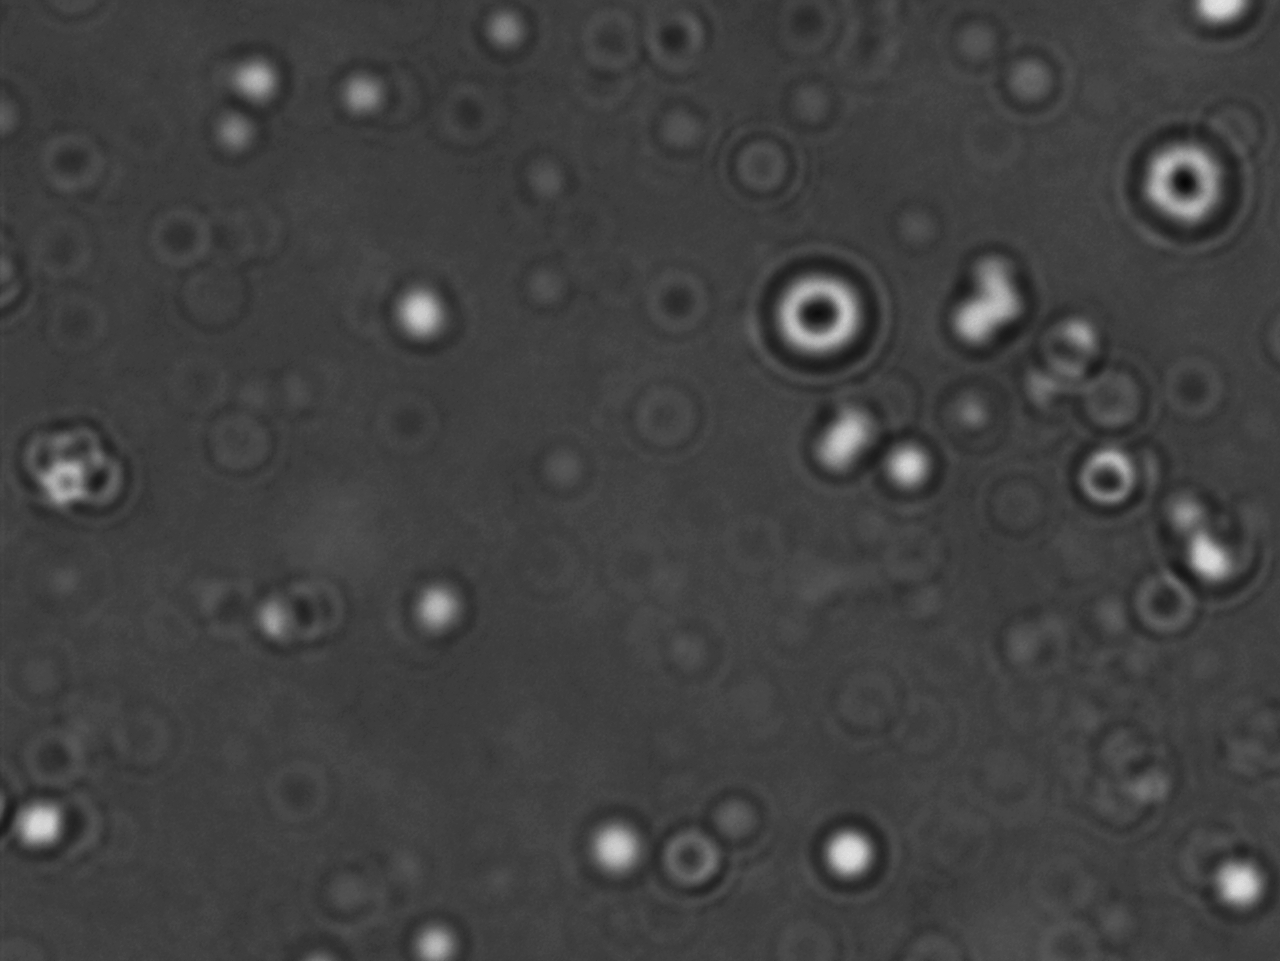depth:24: (753, 249, 896, 381), (1125, 119, 1259, 247)
